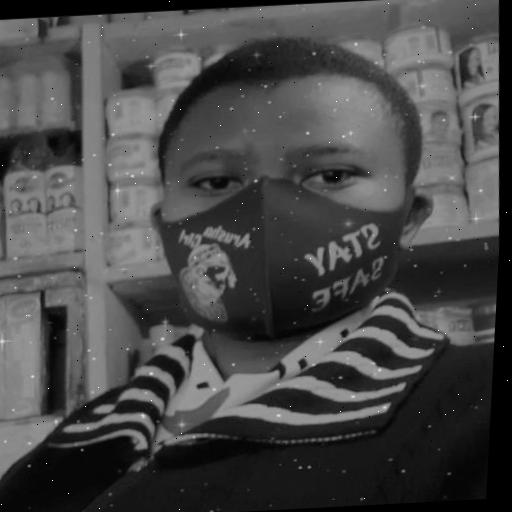mask: (145, 72, 423, 346)
